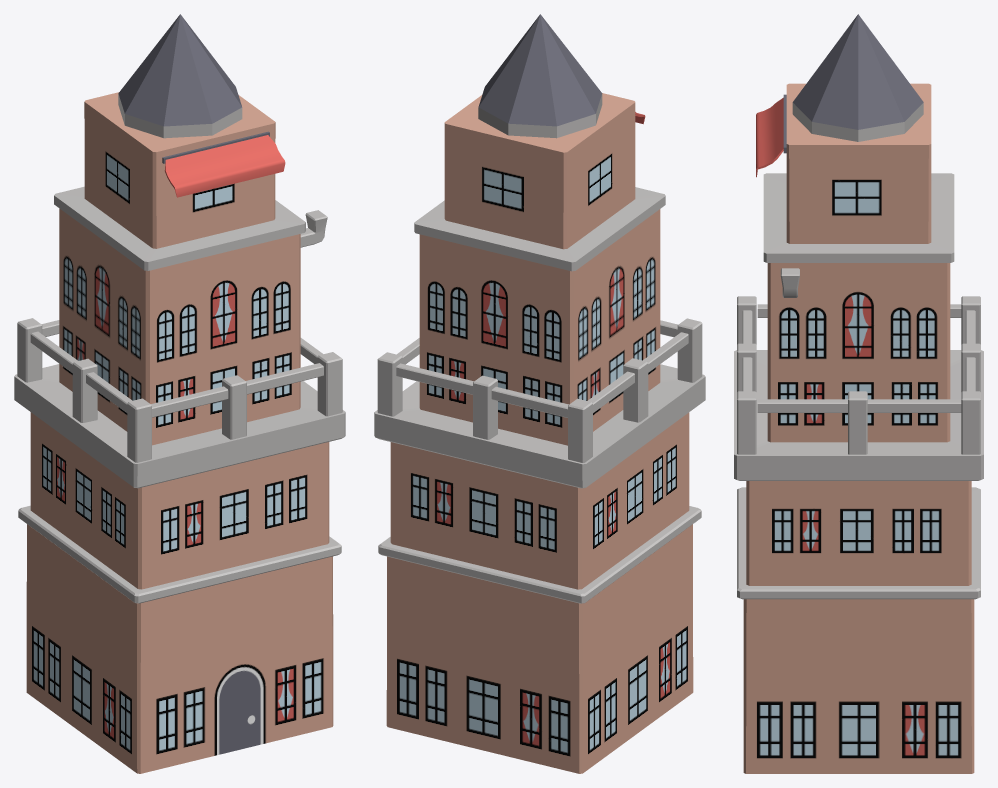
The model's file is DomToren.fbx.
3 views of the same model, side by side, from view 1: azimuth 30°, elevation 25°; view 2: azimuth 150°, elevation 25°; view 3: azimuth 270°, elevation 25° (orthographic). The views are drawn at different scales.
Parts seen in each view (by area): view 1: DomToren; view 2: DomToren; view 3: DomToren.
Boxes of the visible parts, <box> form: DomToren: <box>14,14,345,773</box>; DomToren: <box>374,14,705,773</box>; DomToren: <box>734,14,983,773</box>.
Bounding box in the file's own units: 6.06 × 18.64 × 5.94.
1 material, 1 textured.
